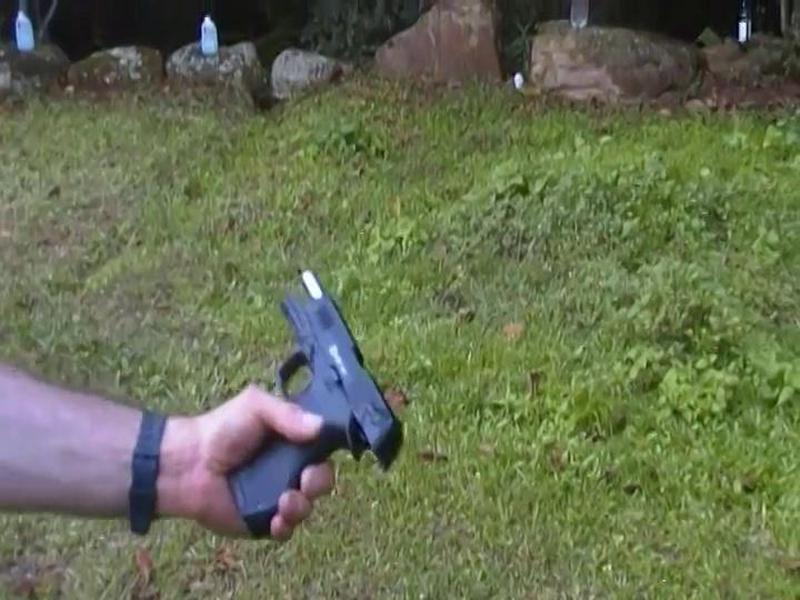Pistola: (219, 251, 392, 542)
